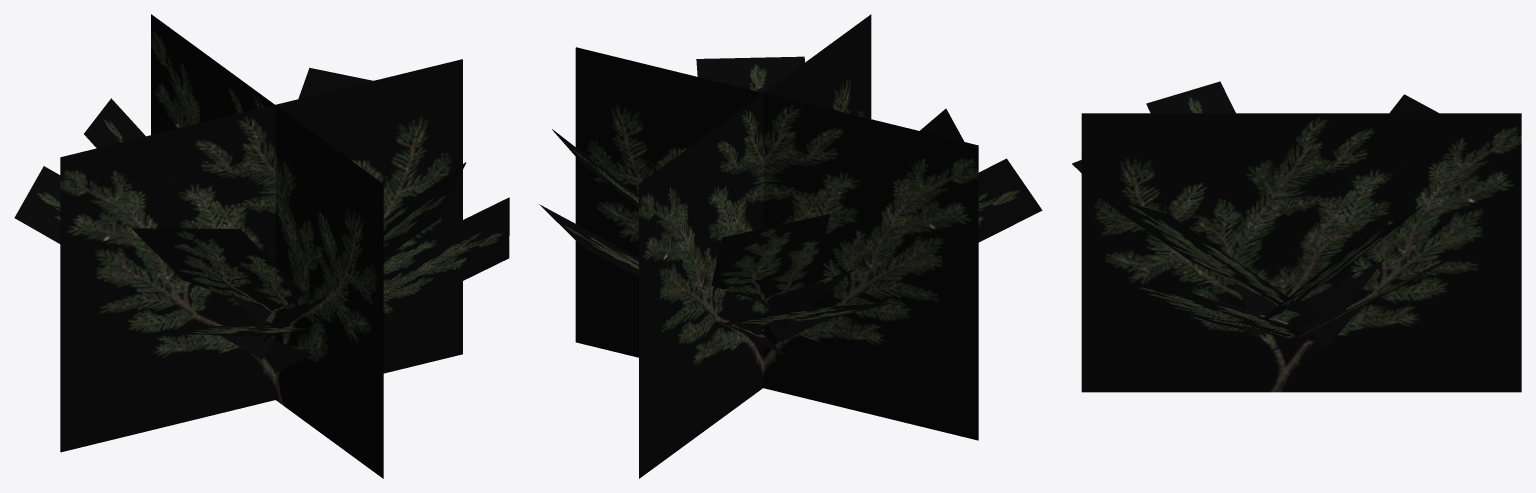
File: mtns_shrb_evergreen_l1.fbx
3 views of the same model, side by side, from view 1: azimuth 30°, elevation 25°; view 2: azimuth 150°, elevation 25°; view 3: azimuth 270°, elevation 25° (orthographic). The views are drawn at different scales.
Visible parts, largest first — view 1: mesh_node; view 2: mesh_node; view 3: mesh_node.
Part boxes in pixels (bbox=[...]): mesh_node: bbox=[14, 14, 509, 478]; mesh_node: bbox=[539, 14, 1042, 478]; mesh_node: bbox=[1072, 81, 1521, 392].
Size of the model in its own units: 5.55 by 3.89 by 5.68.
